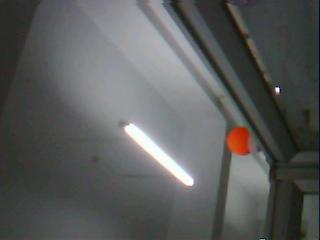oball: (227, 127, 252, 156)
